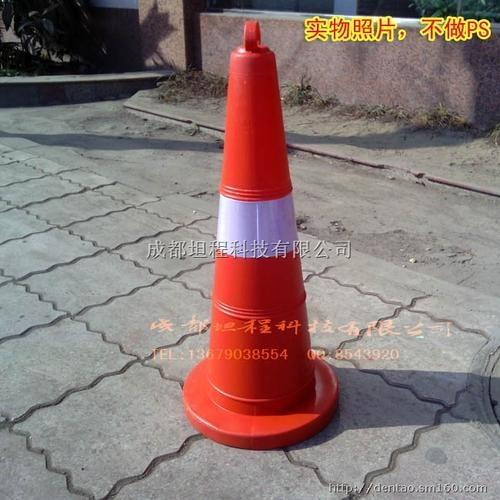cone_barrel: (187, 26, 330, 447)
